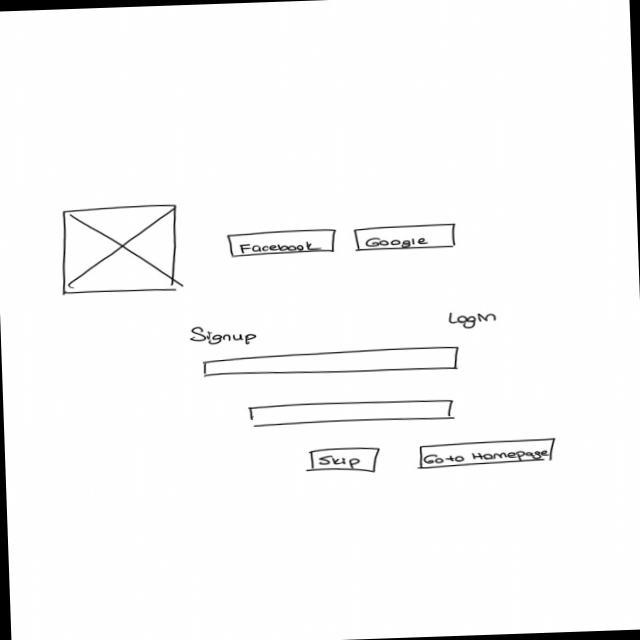button: (414, 435, 559, 470), (225, 227, 339, 258), (352, 222, 458, 252), (308, 444, 382, 475)
image: (56, 202, 182, 296)
input: (200, 344, 461, 379), (247, 397, 458, 427)
label: (187, 323, 260, 348), (446, 308, 499, 329)
